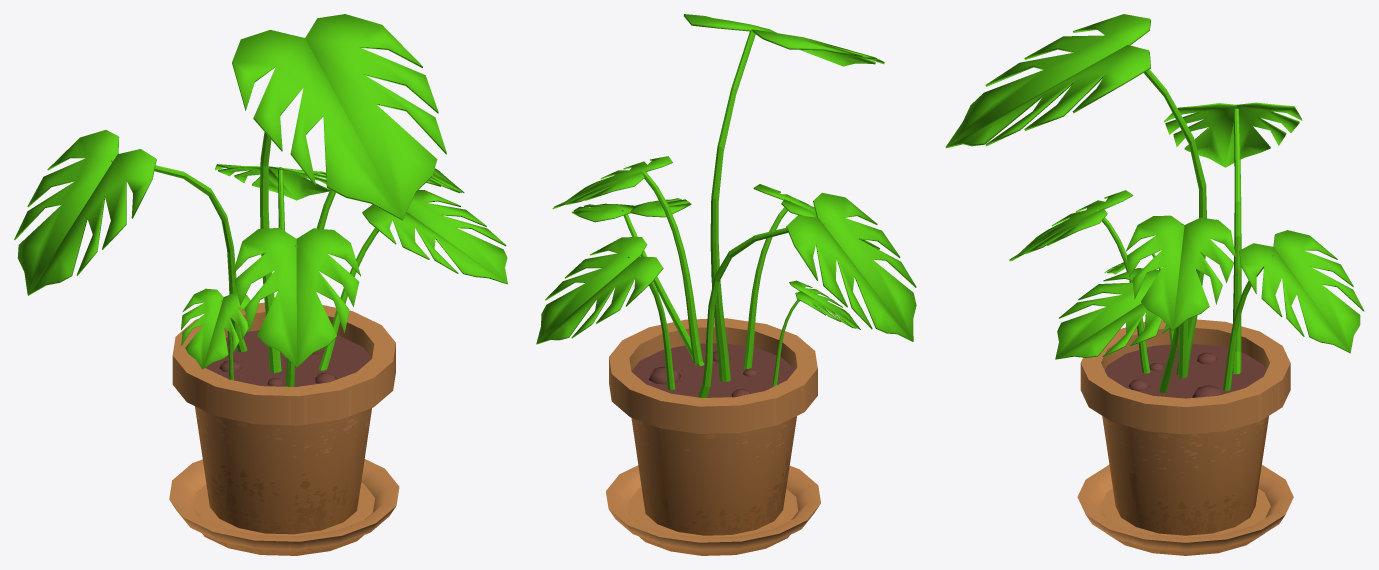
File: pot_prueba_2.fbx
3 renders of one model, left to right at view 1: azimuth 30°, elevation 25°; view 2: azimuth 150°, elevation 25°; view 3: azimuth 270°, elevation 25°, orthographic. The views are drawn at different scales.
Parts seen in each view (by area): view 1: Maceta.002, Plane.010, Plane.009, Plane.008, Plato.002, Plane.012, Tierra.002, Plane.014, Plane.013, Cylinder.007, Cylinder.008, Cylinder.010; view 2: Maceta.002, Plane.009, Plato.002, Plane.013, Tierra.002, Cylinder.008, Plane.010, Plane.011, Cylinder.009, Cylinder.007, Plane.012, Cylinder.006 (+4 smaller); view 3: Maceta.002, Plane.010, Plane.013, Plane.011, Plato.002, Plane.012, Tierra.002, Plane.009, Plane.008, Cylinder.007, Cylinder.008, Cylinder.011 (+3 smaller).
Part boxes in pixels (bbox=[...]): Maceta.002: bbox=[172, 302, 395, 534]; Plane.010: bbox=[232, 14, 446, 220]; Plane.009: bbox=[14, 130, 156, 295]; Plane.008: bbox=[232, 228, 360, 367]; Plato.002: bbox=[169, 459, 399, 555]; Plane.012: bbox=[362, 190, 507, 284]; Tierra.002: bbox=[205, 330, 371, 386]; Plane.014: bbox=[181, 288, 250, 369]; Plane.013: bbox=[215, 164, 329, 200]; Cylinder.007: bbox=[111, 160, 247, 351]; Cylinder.008: bbox=[260, 37, 304, 372]; Cylinder.010: bbox=[318, 228, 379, 370]; Maceta.002: bbox=[609, 318, 817, 535]; Plane.009: bbox=[786, 192, 916, 341]; Plato.002: bbox=[606, 465, 820, 555]; Plane.013: bbox=[536, 237, 663, 344]; Tierra.002: bbox=[631, 343, 795, 397]; Cylinder.008: bbox=[710, 29, 755, 381]; Plane.010: bbox=[683, 14, 884, 66]; Plane.011: bbox=[552, 156, 672, 209]; Cylinder.009: bbox=[643, 170, 702, 363]; Cylinder.007: bbox=[698, 223, 824, 397]; Plane.012: bbox=[571, 198, 691, 222]; Cylinder.006: bbox=[743, 200, 791, 369]; Maceta.002: bbox=[1080, 319, 1290, 535]; Plane.010: bbox=[945, 14, 1150, 148]; Plane.013: bbox=[1239, 230, 1364, 353]; Plane.011: bbox=[1126, 215, 1236, 330]; Plato.002: bbox=[1077, 465, 1293, 555]; Plane.012: bbox=[1055, 268, 1169, 359]; Tierra.002: bbox=[1105, 343, 1266, 398]; Plane.009: bbox=[1164, 102, 1302, 167]; Plane.008: bbox=[1009, 190, 1132, 261]; Cylinder.007: bbox=[1232, 108, 1241, 374]; Cylinder.008: bbox=[1144, 69, 1206, 375]; Cylinder.011: bbox=[1223, 254, 1274, 390].
Bounding box in the file's own units: 636 × 752 × 600.
9 materials, 1 textured.
